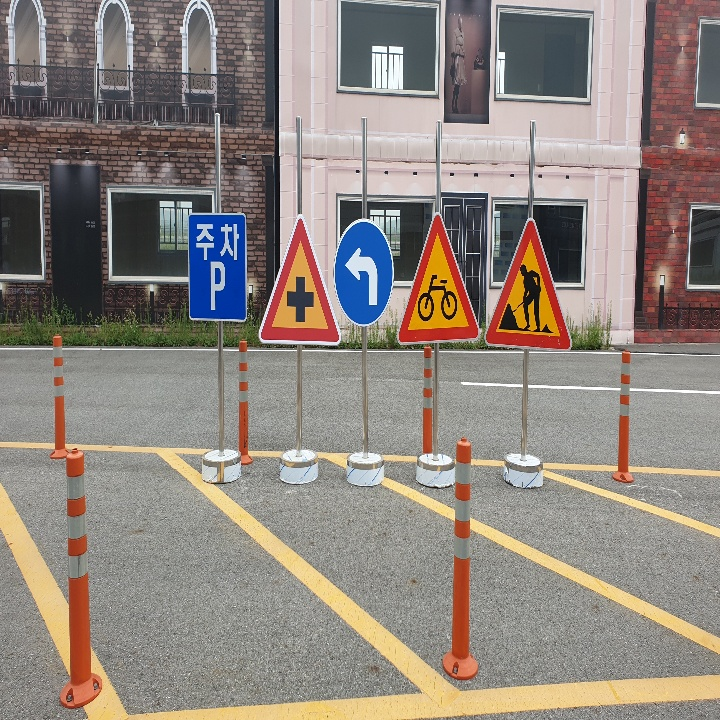bicycle: (401, 213, 475, 345)
const: (496, 257, 560, 336)
inter: (281, 273, 318, 329)
left: (341, 242, 386, 313)
parking: (204, 258, 230, 313)
